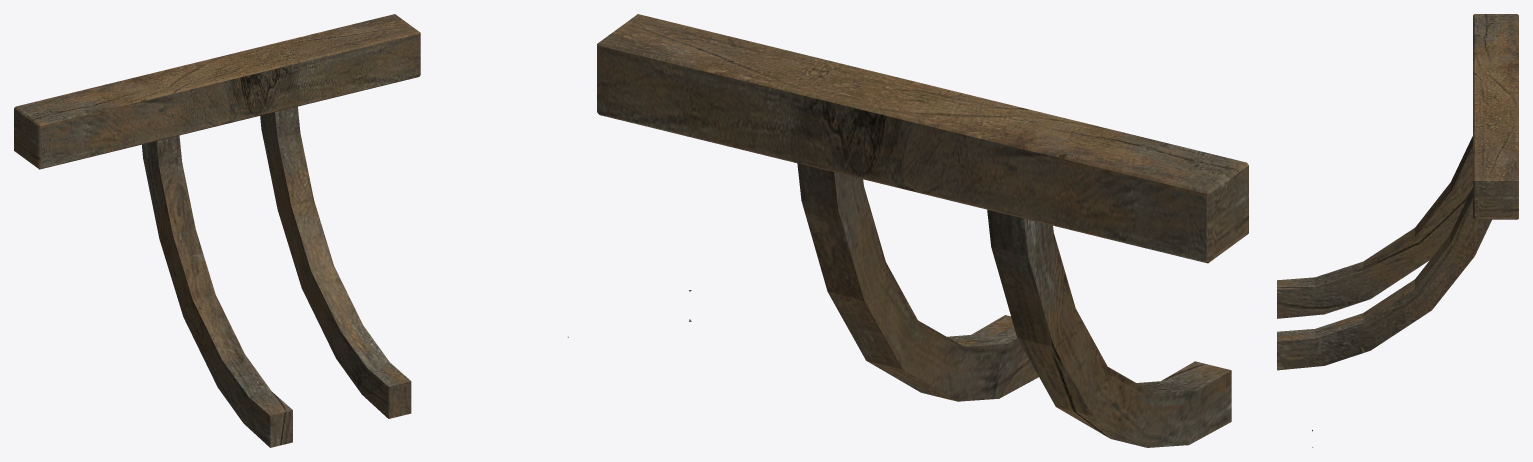
The model's file is HouseLanGan_2.fbx.
The picture shows the model from 3 angles, left to right: view 1: azimuth 30°, elevation 25°; view 2: azimuth 150°, elevation 25°; view 3: azimuth 270°, elevation 25°; orthographic projection. The views are drawn at different scales.
Parts seen in each view (by area): view 1: 3D_HouseLanGan2.mo; view 2: 3D_HouseLanGan2.mo; view 3: 3D_HouseLanGan2.mo.
Boxes of the visible parts, <box> form: 3D_HouseLanGan2.mo: <box>14,14,568,447</box>; 3D_HouseLanGan2.mo: <box>597,14,1248,447</box>; 3D_HouseLanGan2.mo: <box>1277,14,1518,447</box>.
Size of the model in its own units: 160 by 94.83 by 85.51.
1 material, 1 textured.
